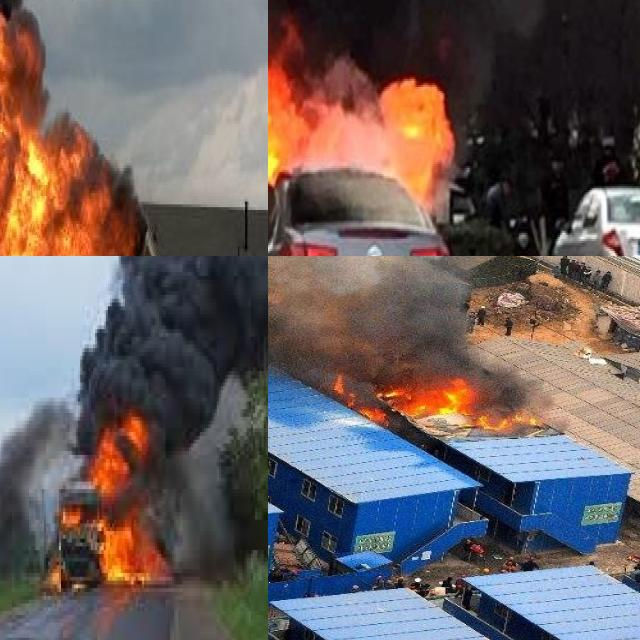fire: (268, 0, 453, 256), (0, 0, 132, 256), (37, 413, 187, 596), (330, 355, 549, 452)
smoke: (71, 256, 268, 447), (0, 397, 65, 569), (166, 451, 225, 569)
